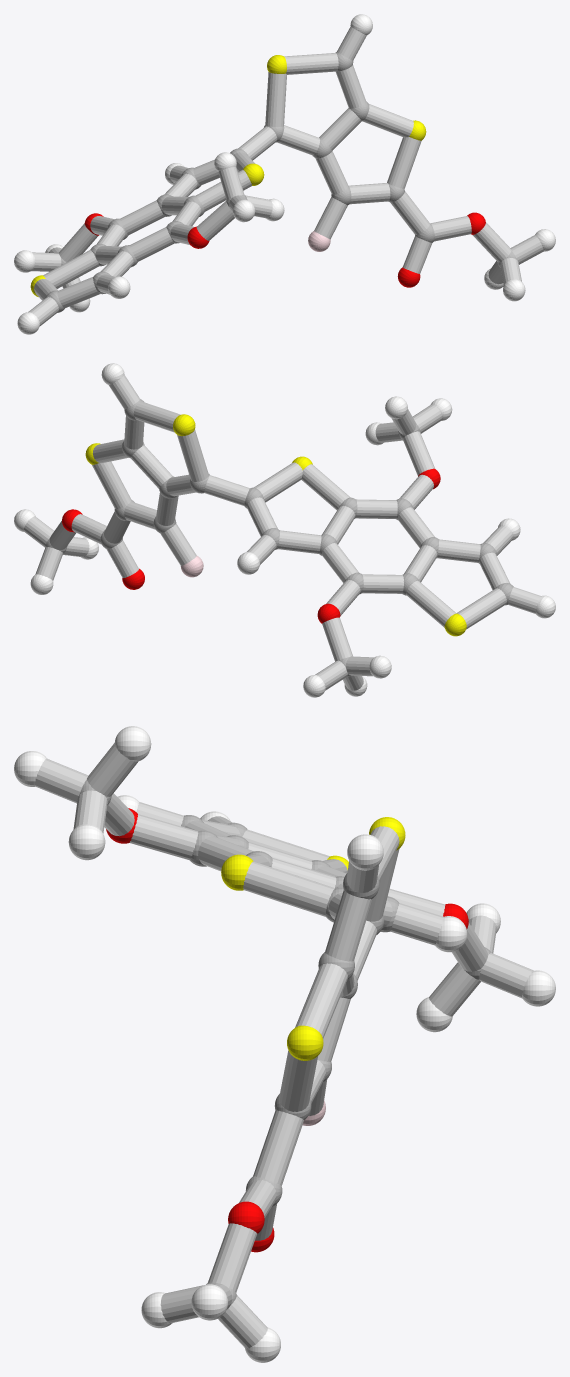
File: color.glb
The picture shows the model from 3 angles, top to bottom: view 1: azimuth 30°, elevation 25°; view 2: azimuth 150°, elevation 25°; view 3: azimuth 270°, elevation 25°; orthographic projection. The views are drawn at different scales.
Parts seen in each view (by area): view 1: grp15205, grp8689, grp1, grp13395, grp7241; view 2: grp15205, grp8689, grp1, grp7241, grp13395; view 3: grp15205, grp8689, grp1, grp7241, grp13395.
Boxes of the visible parts, bbox=[...] form: grp15205: bbox=[28, 27, 543, 326]; grp8689: bbox=[14, 14, 555, 334]; grp1: bbox=[45, 52, 516, 312]; grp13395: bbox=[84, 212, 485, 287]; grp7241: bbox=[30, 55, 426, 297]; grp15205: bbox=[23, 375, 541, 690]; grp8689: bbox=[14, 363, 555, 697]; grp1: bbox=[45, 399, 513, 677]; grp7241: bbox=[85, 414, 466, 636]; grp13395: bbox=[62, 468, 440, 623]; grp15205: bbox=[35, 743, 533, 1348]; grp8689: bbox=[14, 726, 555, 1362]; grp1: bbox=[79, 779, 491, 1305]; grp7241: bbox=[221, 817, 405, 1060]; grp13395: bbox=[106, 808, 468, 1252].
Bounding box in the file's own units: 16.34 × 8.04 × 8.88.
